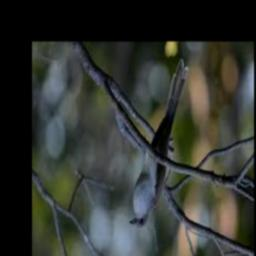Cuckoo: (128, 60, 188, 229)
